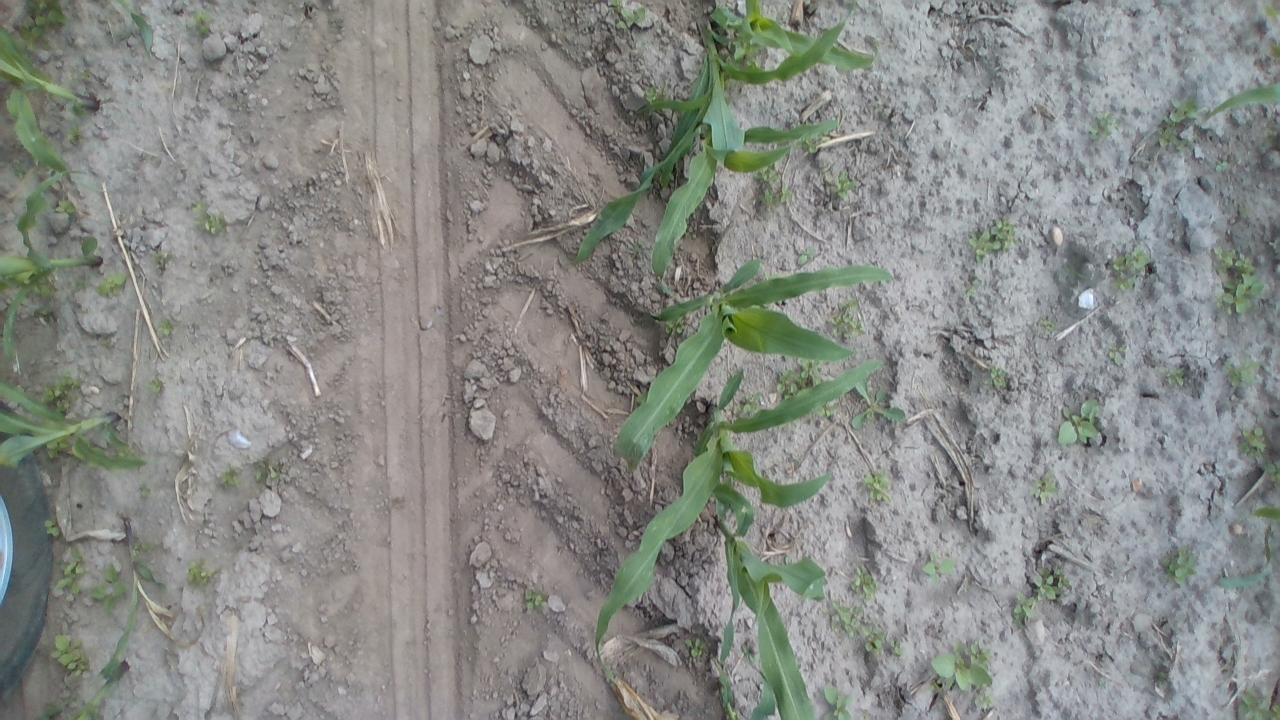Maize: (594, 356, 884, 685), (573, 12, 849, 278), (616, 254, 896, 466), (714, 514, 830, 720), (0, 174, 104, 364), (0, 31, 103, 170), (0, 380, 147, 474), (710, 0, 879, 79), (101, 517, 174, 681), (1216, 524, 1275, 588), (74, 661, 128, 720), (1208, 84, 1280, 128), (113, 0, 155, 55), (1252, 505, 1280, 519)
Weeds: (1212, 240, 1266, 316), (926, 636, 998, 690), (851, 380, 907, 434), (965, 213, 1019, 265), (1054, 395, 1106, 448), (1157, 94, 1196, 156), (1110, 244, 1154, 294), (20, 0, 66, 47), (90, 558, 128, 612), (50, 632, 93, 676), (1160, 539, 1200, 586), (52, 545, 88, 597), (38, 370, 82, 412), (828, 296, 868, 340), (826, 600, 874, 636), (920, 548, 960, 590), (1034, 563, 1074, 605), (188, 194, 226, 236), (1222, 354, 1262, 393), (1084, 108, 1122, 146), (820, 683, 857, 720), (1236, 684, 1274, 720), (1027, 465, 1061, 502), (862, 466, 894, 502), (187, 561, 221, 593), (253, 454, 285, 487), (1238, 422, 1268, 456), (182, 7, 215, 37), (520, 586, 554, 615), (850, 564, 877, 599), (1010, 592, 1037, 626), (96, 272, 128, 300), (619, 2, 649, 30), (758, 188, 791, 211), (680, 632, 708, 659), (860, 626, 889, 652), (772, 367, 798, 396), (131, 537, 159, 563), (624, 238, 650, 264), (796, 358, 824, 382), (986, 365, 1010, 392), (834, 170, 856, 199), (734, 46, 762, 68), (1261, 457, 1280, 488), (795, 245, 819, 269), (156, 316, 178, 340), (221, 466, 243, 489), (754, 166, 782, 184), (1108, 342, 1129, 366), (44, 442, 70, 461), (112, 439, 135, 460), (42, 519, 64, 540), (663, 318, 686, 338), (1166, 366, 1186, 389), (151, 248, 170, 272), (28, 306, 56, 322), (741, 392, 762, 412), (55, 197, 79, 214), (11, 158, 27, 182), (973, 690, 992, 710), (68, 124, 86, 145), (70, 275, 90, 293), (740, 644, 757, 664), (1262, 2, 1279, 22), (136, 483, 155, 500), (146, 378, 166, 394), (1268, 36, 1280, 62), (646, 85, 663, 102), (888, 638, 904, 656), (1033, 317, 1053, 331), (799, 138, 818, 152), (35, 282, 46, 304), (1154, 668, 1169, 684), (818, 405, 834, 419), (1214, 160, 1230, 174), (98, 338, 115, 351), (964, 282, 978, 296), (1269, 703, 1280, 720), (79, 68, 92, 82), (635, 392, 647, 404), (608, 0, 622, 10), (1096, 678, 1108, 688)
